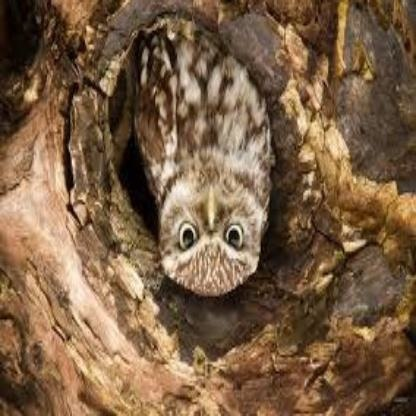Owl: (139, 32, 272, 291)
